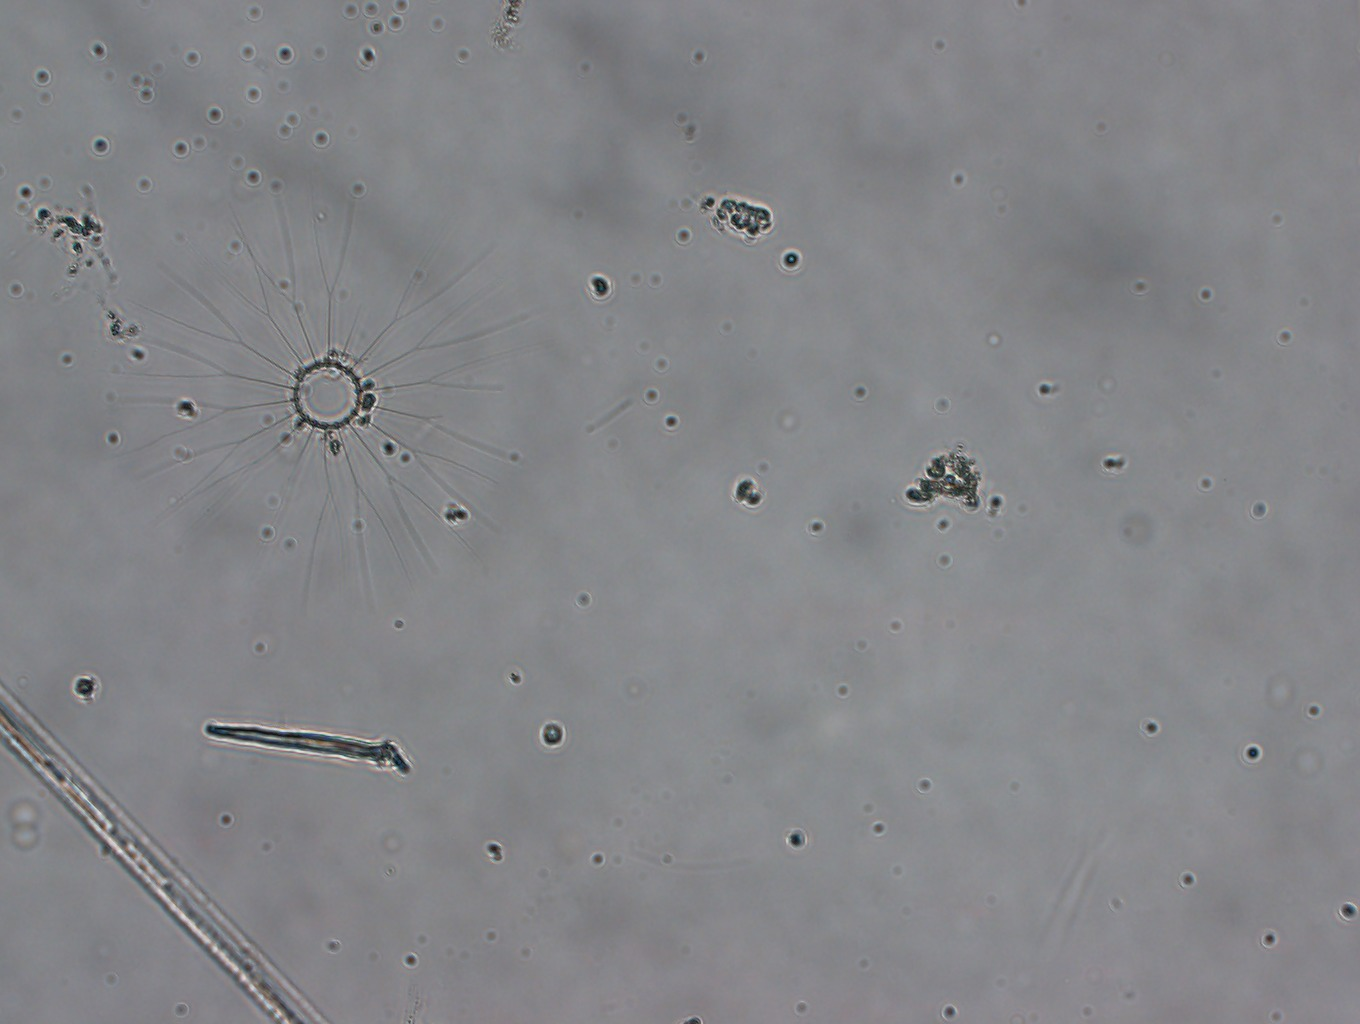bacteriastrum: (101, 170, 539, 617)
